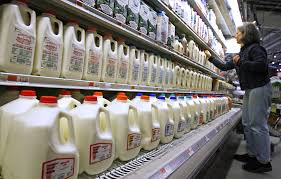milk: (18, 97, 79, 179), (75, 98, 117, 173), (3, 1, 33, 73), (111, 98, 143, 160), (37, 7, 62, 79), (64, 16, 85, 87), (138, 97, 161, 149), (6, 92, 39, 128), (86, 26, 103, 82), (155, 96, 175, 140), (104, 33, 118, 85), (170, 97, 185, 137), (187, 95, 202, 128), (118, 43, 129, 84), (131, 44, 142, 83), (59, 91, 75, 110), (143, 51, 151, 86), (92, 92, 111, 104), (158, 57, 164, 85), (152, 55, 157, 83), (165, 60, 169, 82)
